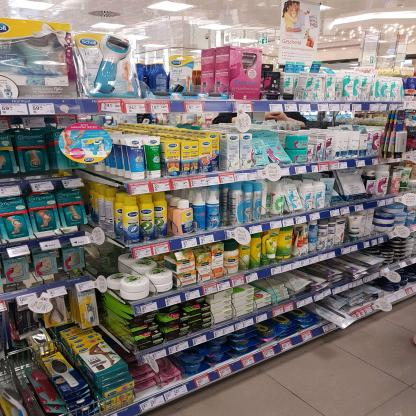empty_space: (198, 40, 231, 99), (218, 183, 235, 228)
